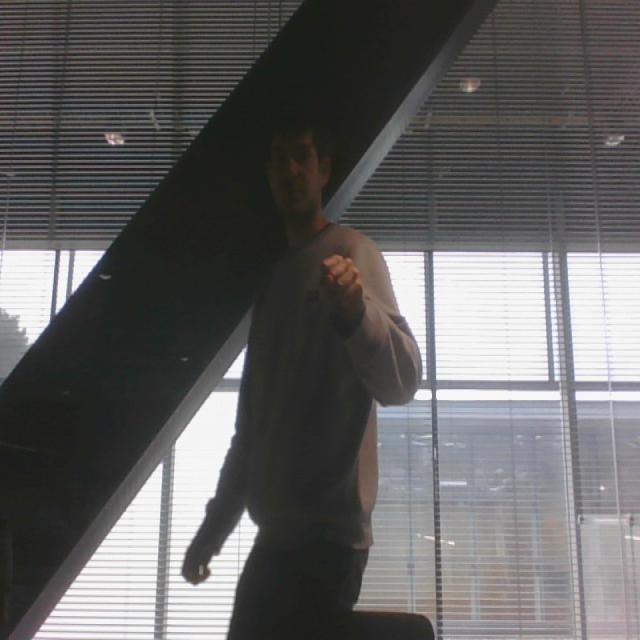stop: (314, 243, 370, 337)
